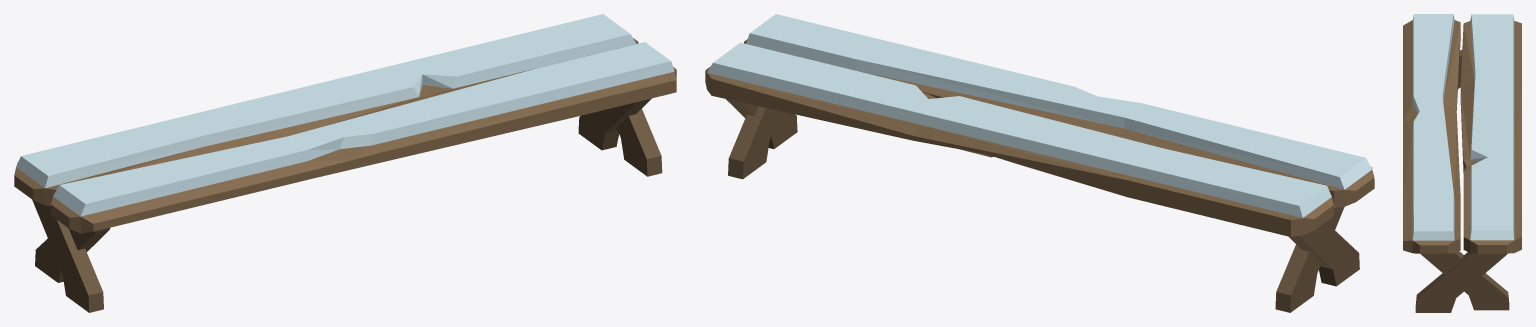
Rendered from SM_Prop_Bench_01_Snow.fbx.
3 renders of one model, left to right at view 1: azimuth 30°, elevation 25°; view 2: azimuth 150°, elevation 25°; view 3: azimuth 270°, elevation 25°, orthographic. The views are drawn at different scales.
Parts seen in each view (by area): view 1: SM_Prop_Bench_01_Snow; view 2: SM_Prop_Bench_01_Snow; view 3: SM_Prop_Bench_01_Snow.
Boxes of the visible parts, <box> form: SM_Prop_Bench_01_Snow: <box>14,14,676,312</box>; SM_Prop_Bench_01_Snow: <box>705,14,1374,312</box>; SM_Prop_Bench_01_Snow: <box>1403,14,1521,312</box>.
Bounding box in the file's own units: 238 × 41.47 × 52.92.
